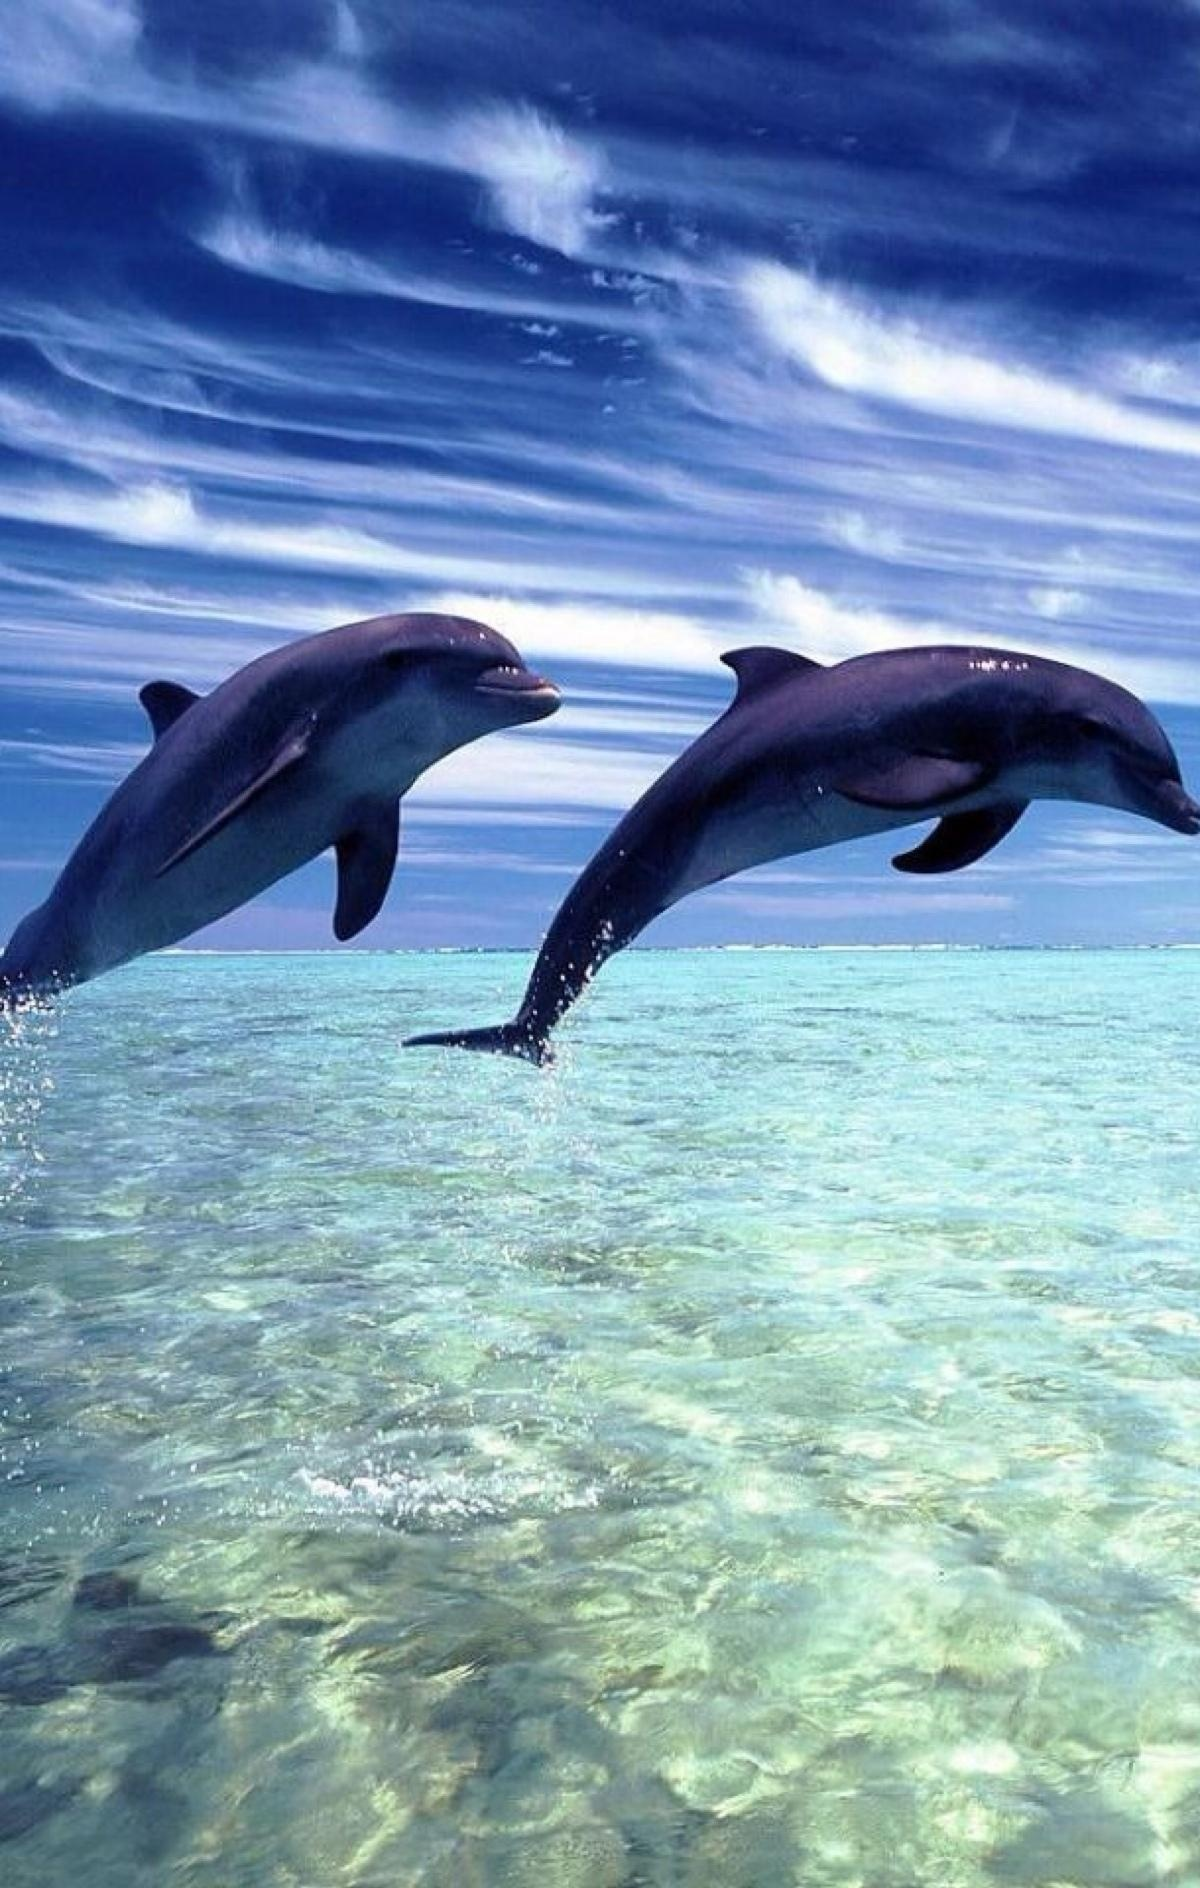fish: (425, 645, 1194, 1084), (21, 594, 568, 1031)
